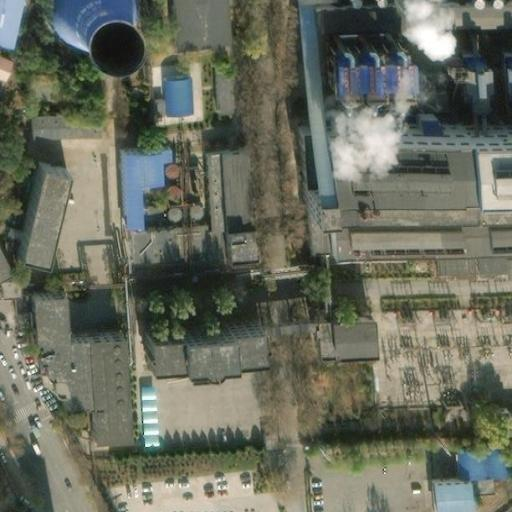building: (326, 114, 512, 201), (310, 0, 512, 41), (116, 144, 174, 231), (8, 155, 60, 251), (77, 324, 122, 432), (199, 146, 252, 236), (139, 323, 255, 364), (323, 44, 402, 97), (41, 0, 128, 42), (124, 223, 209, 264), (439, 62, 503, 115), (32, 327, 81, 396), (21, 284, 55, 349), (22, 108, 100, 136), (203, 43, 232, 116), (327, 325, 371, 362), (221, 232, 256, 274), (151, 65, 185, 108), (450, 442, 496, 473), (81, 238, 111, 282), (423, 472, 461, 504), (500, 61, 512, 111), (0, 49, 17, 78)
